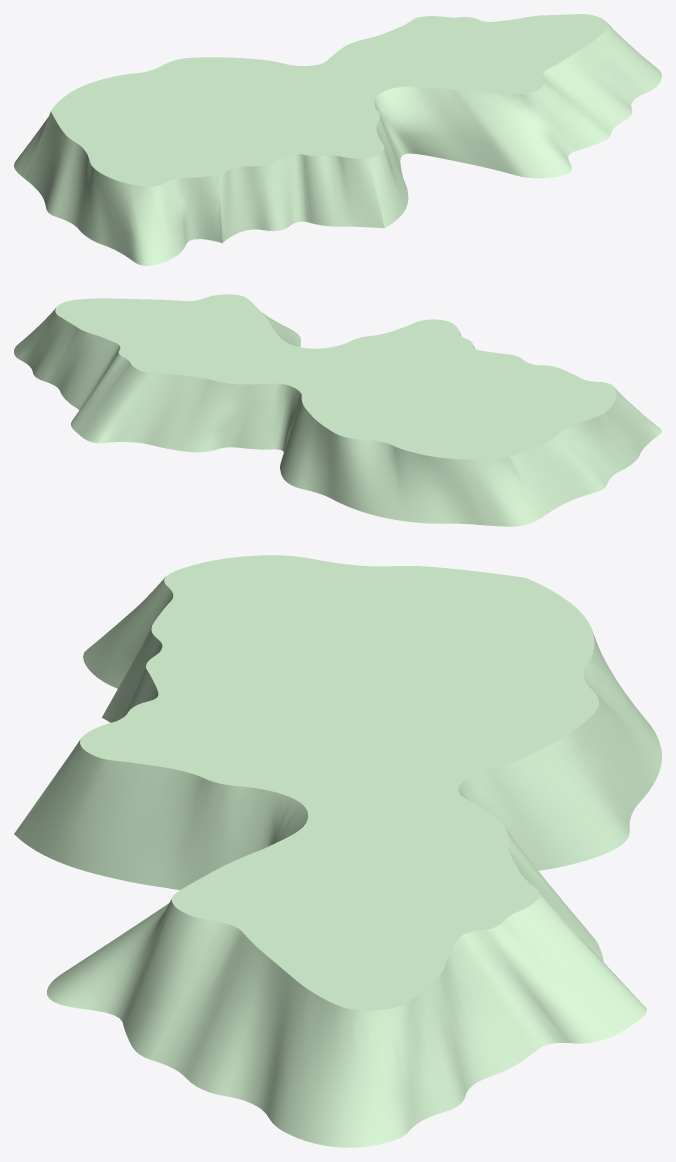
File: mountain.fbx
The picture shows the model from 3 angles, top to bottom: view 1: azimuth 30°, elevation 25°; view 2: azimuth 150°, elevation 25°; view 3: azimuth 270°, elevation 25°; orthographic projection. The views are drawn at different scales.
Parts seen in each view (by area): view 1: 物件_7; view 2: 物件_7; view 3: 物件_7.
Boxes of the visible parts, left/top/right/bottom form: 物件_7: left=14, top=14, right=661, bottom=265; 物件_7: left=14, top=294, right=661, bottom=526; 物件_7: left=14, top=555, right=661, bottom=1147.
Bounding box in the file's own units: 3.88 × 0.3409 × 2.07.
